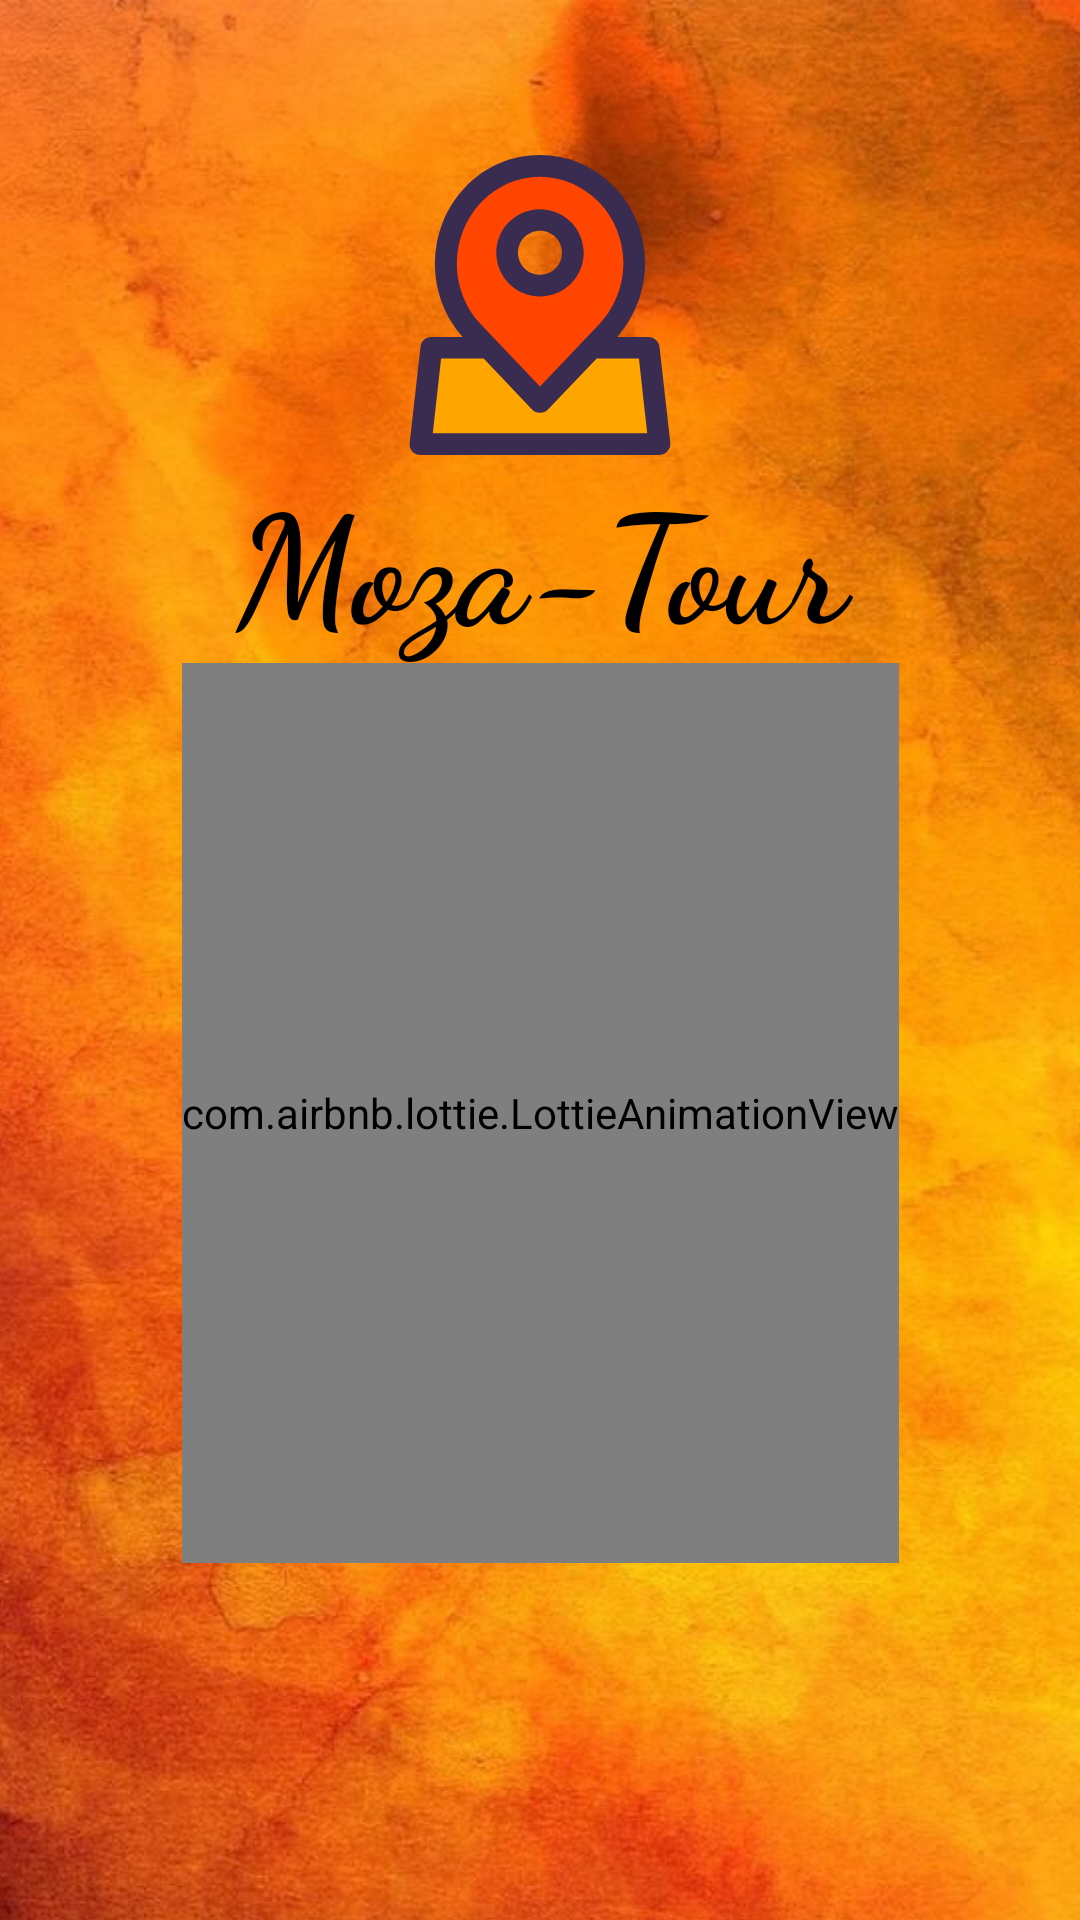

Icons on this 1080 x 1920 Android screen, each with the point to tap as [x,y]:
fixar mapa: [540,305]
